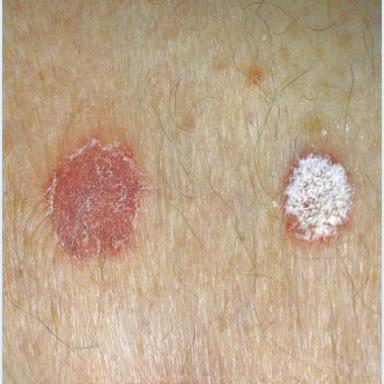Psoriasis: (44, 138, 143, 259), (279, 146, 353, 242)
